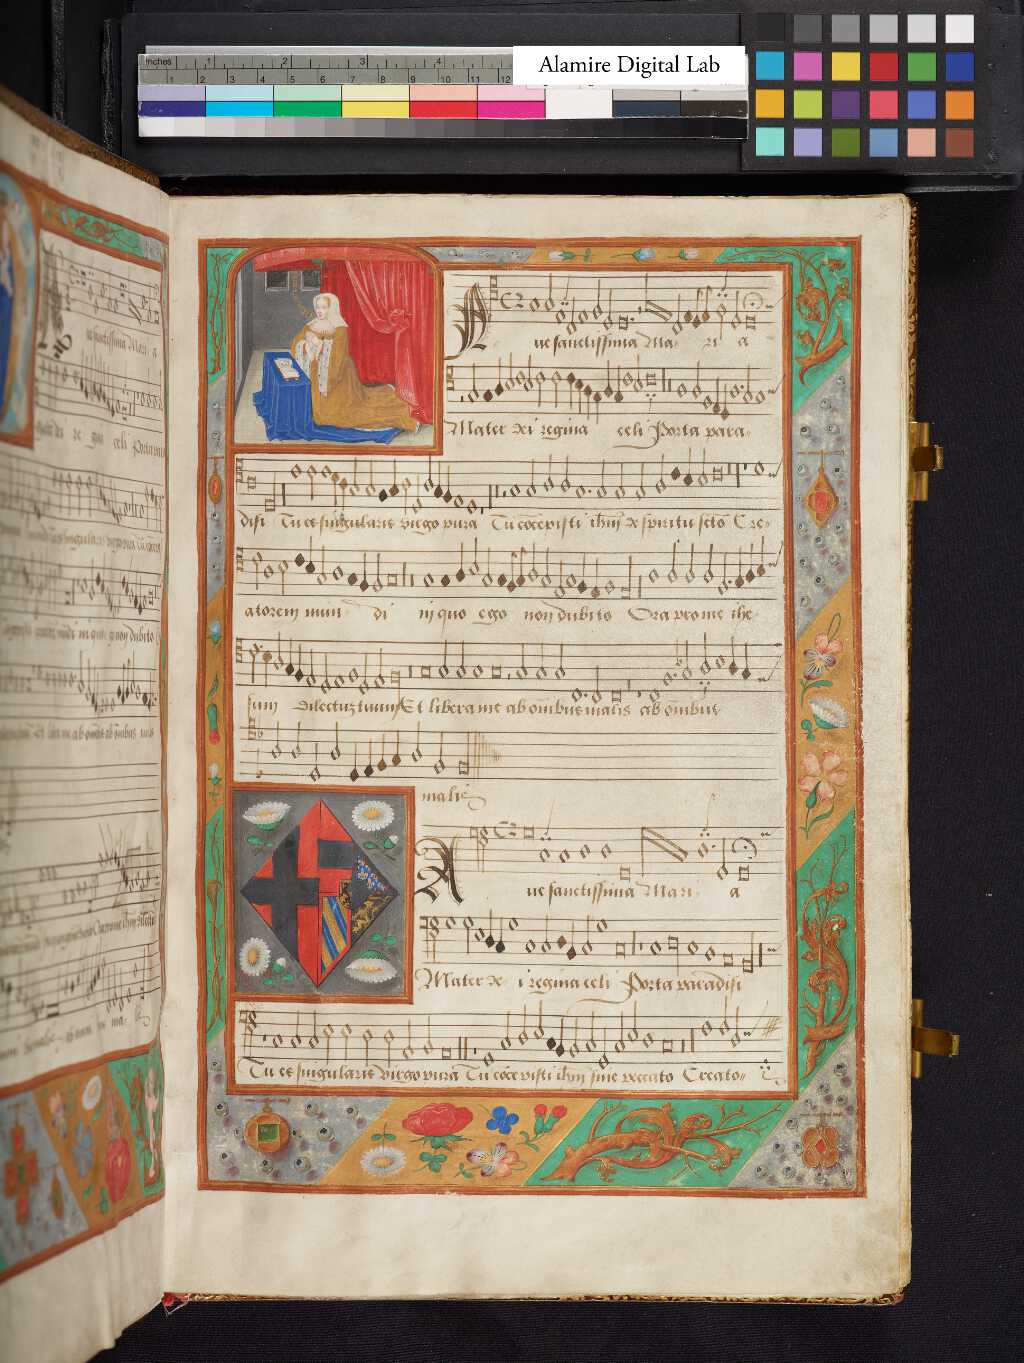breve rest: (675, 1008, 689, 1074)
breve_10: (437, 1038, 454, 1067)
breve_8: (659, 1030, 675, 1057)
colored semibreve_8: (542, 1030, 558, 1057)
congruence: (741, 1051, 774, 1084)
custos_6: (736, 1013, 768, 1045)
f clef_5: (237, 1004, 260, 1059)
longa rest: (685, 1007, 698, 1071), (454, 1007, 465, 1071), (463, 1008, 473, 1066)
minim_10: (400, 1010, 417, 1067)
minim_11: (596, 1018, 611, 1074)
minim_5: (719, 994, 733, 1039)
minim_6: (337, 1012, 354, 1066), (625, 996, 641, 1047), (321, 1013, 336, 1067), (531, 994, 546, 1043)
minim_7: (381, 1018, 397, 1069), (515, 998, 530, 1052), (359, 1019, 375, 1068), (730, 1004, 742, 1052)
minim_8: (288, 1000, 305, 1055), (584, 1004, 600, 1057), (305, 1002, 321, 1055), (612, 1004, 627, 1057), (499, 1003, 512, 1056)
minim_9: (421, 1007, 437, 1057), (568, 1010, 582, 1063)
semibreve rest: (258, 1007, 270, 1071), (469, 1012, 479, 1071)
semibreve_11: (479, 1043, 497, 1073)
semibreve_5: (699, 1012, 716, 1042)
semibreve_7: (639, 1023, 657, 1054)
semibreve_8: (270, 1026, 286, 1054)
semiminim_9: (555, 1011, 568, 1062)
